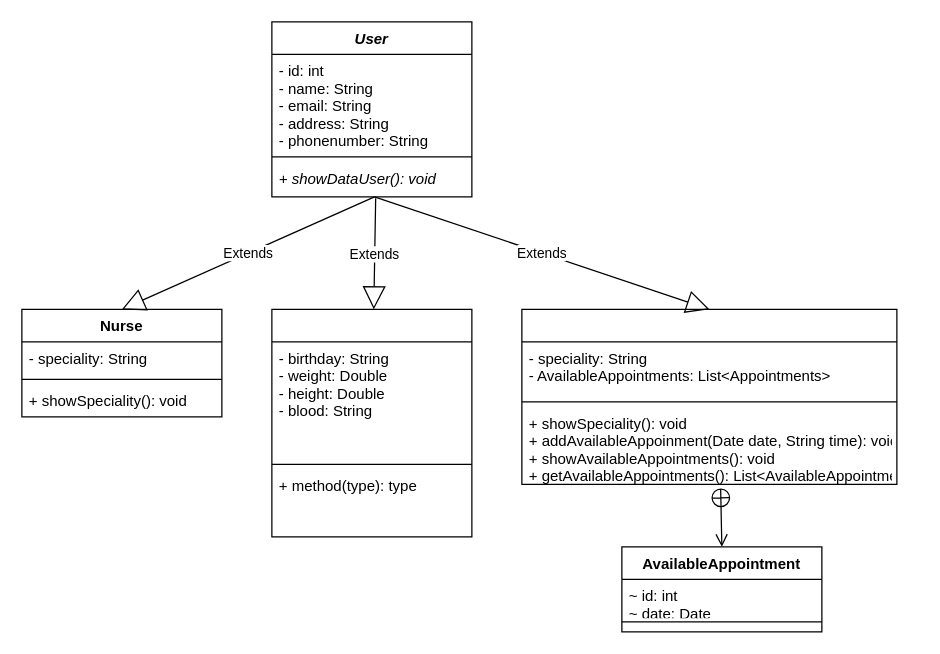
This 940x654 diagram has some shape labels left out. Here are the shapes that lost their labels. From the top down, the box of each, then its label:
(521, 308, 897, 484): Doctor
(271, 308, 472, 537): Patient
